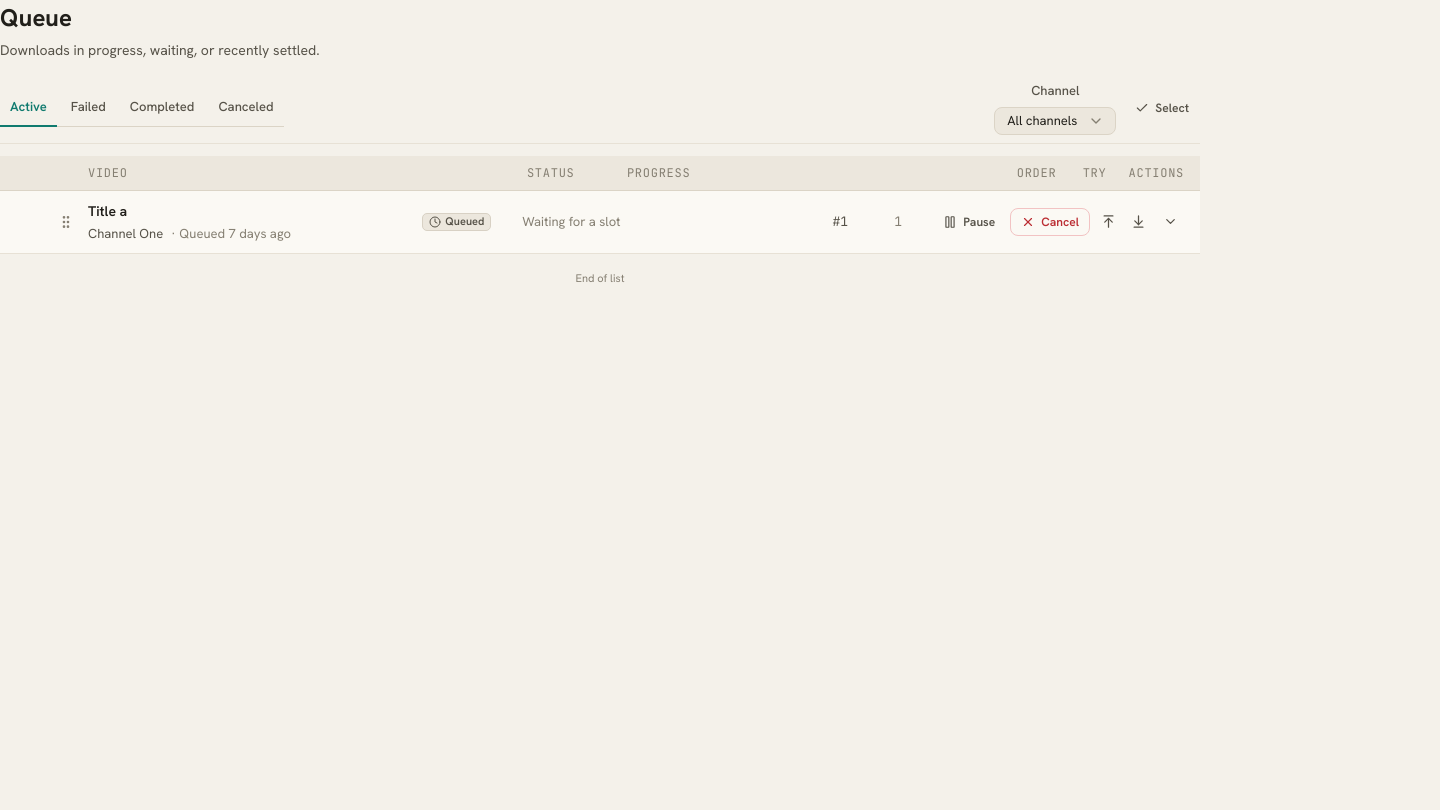
QueuePage — cancel (§5.1) › on a 503 shows a retry toast and keeps the row
Expected: the link "Title a" is shown, left=88, top=200, right=127, bottom=222
Click the button "Cancel" at point(1050, 222), box left=1010, top=208, right=1090, bottom=236
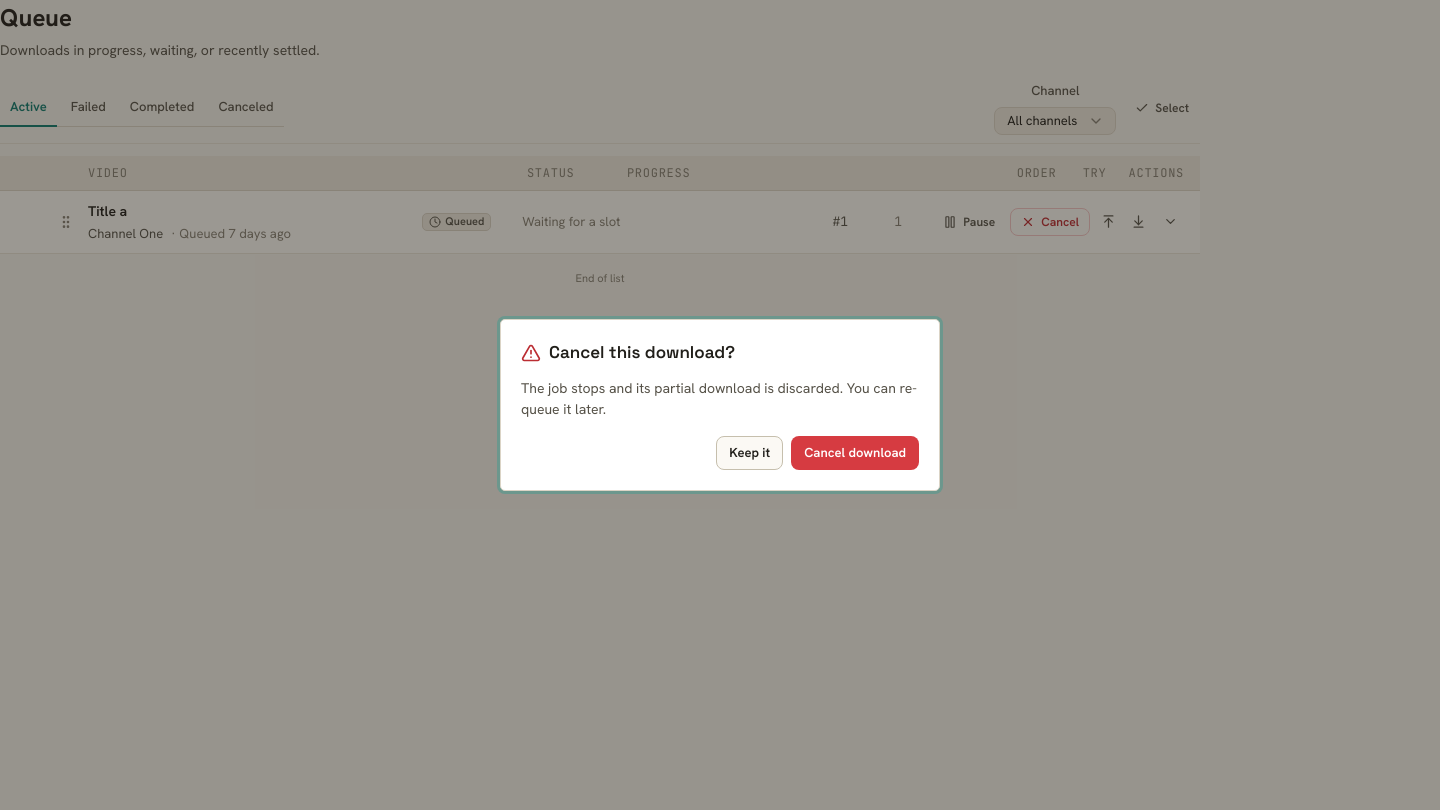
Click the button "Cancel download" at point(855, 453), box left=791, top=436, right=919, bottom=470
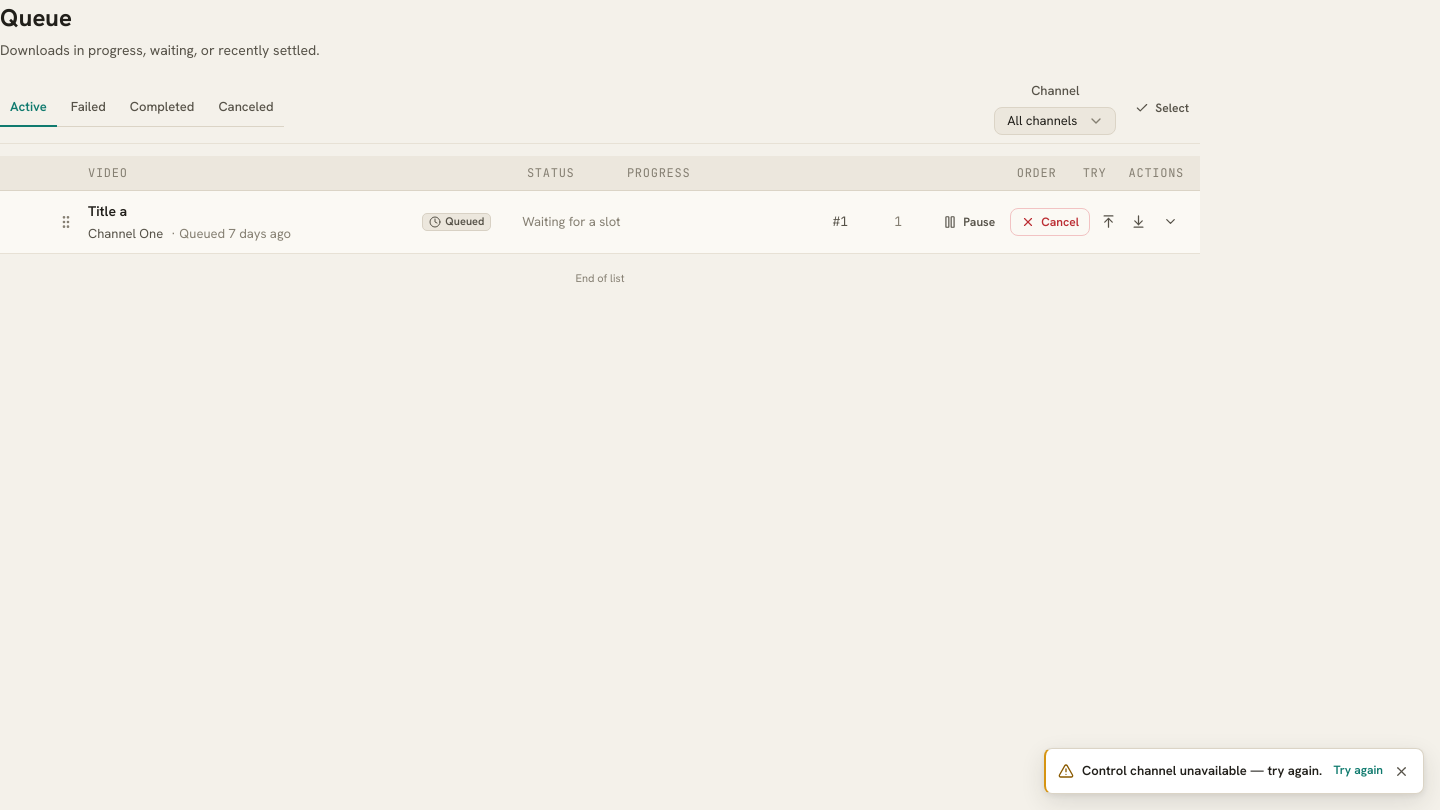
Expected: the link "Title a" is shown, left=88, top=200, right=127, bottom=222
Now the text "Control channel unavailable — try again." is shown, box left=1082, top=761, right=1326, bottom=780
